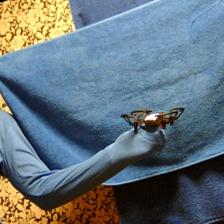drone: (120, 106, 186, 130)
